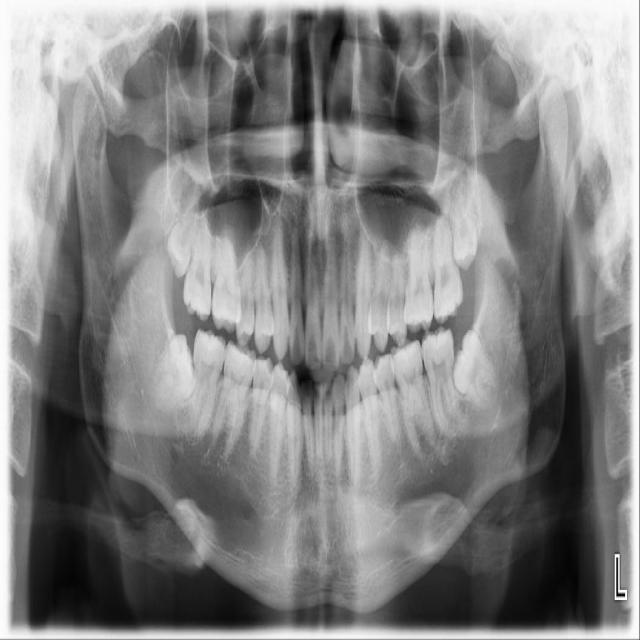impacted tooth: (143, 336, 193, 409), (454, 327, 498, 407), (168, 181, 199, 277), (450, 173, 478, 265)
